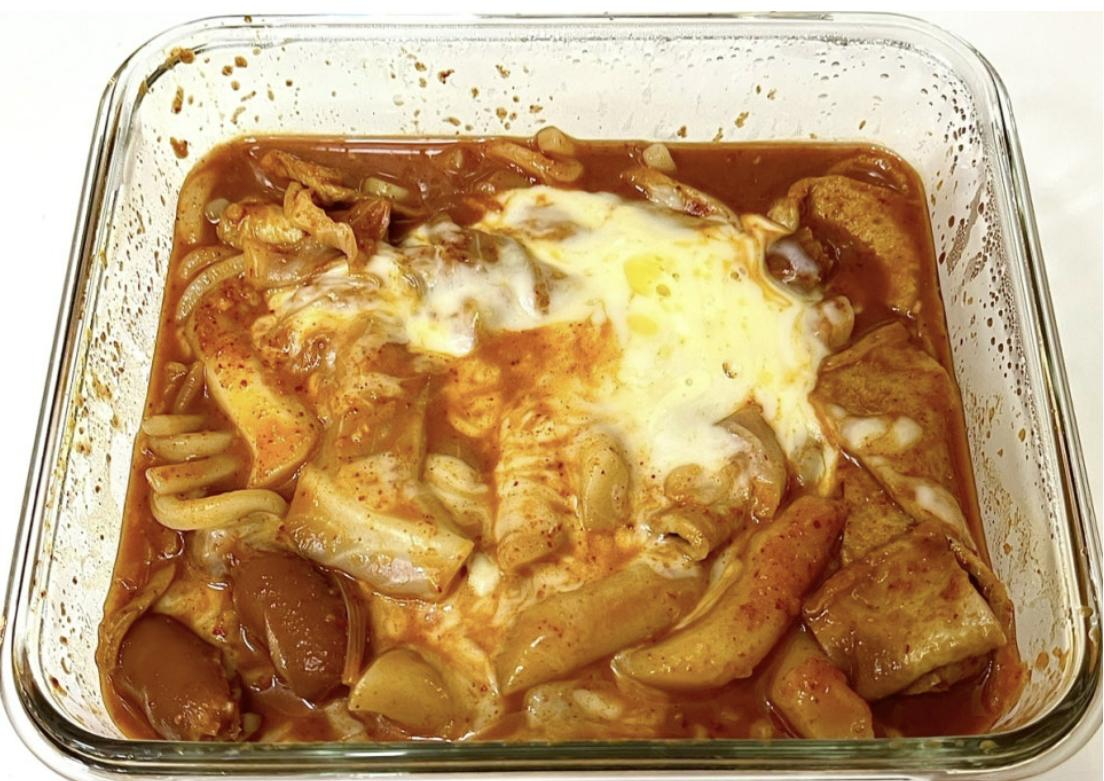Lunch Box: (0, 14, 1103, 780)
